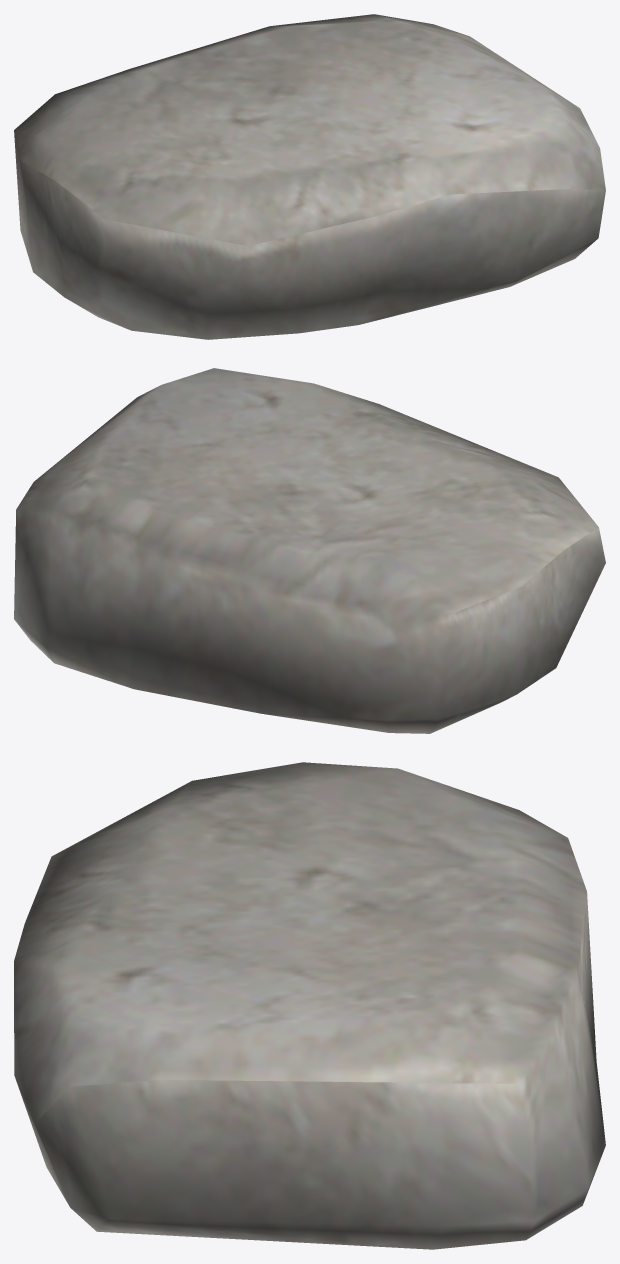
Rendered from Rock_02.glb.
3 views of the same model, one above another, from view 1: azimuth 30°, elevation 25°; view 2: azimuth 150°, elevation 25°; view 3: azimuth 270°, elevation 25° (orthographic). The views are drawn at different scales.
Parts seen in each view (by area): view 1: rock_02; view 2: rock_02; view 3: rock_02.
Part boxes in pixels (x1=…): rock_02: x1=14, y1=14, x2=605, y2=339; rock_02: x1=14, y1=368, x2=605, y2=733; rock_02: x1=14, y1=762, x2=605, y2=1249.
Size of the model in its own units: 1.44 by 0.5045 by 1.15.
Materials: 1 (1 with a texture image).
